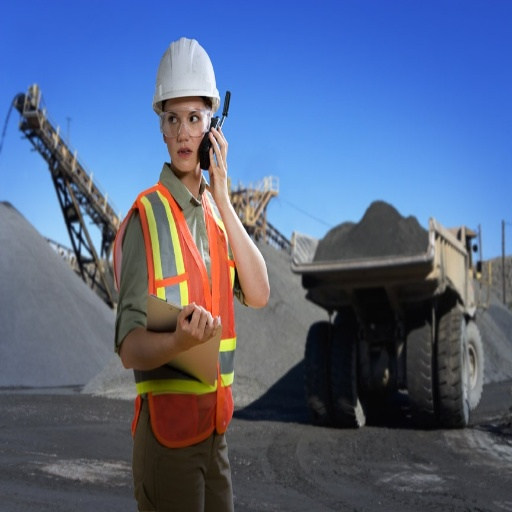hand: (169, 304, 213, 354), (205, 122, 229, 205)
